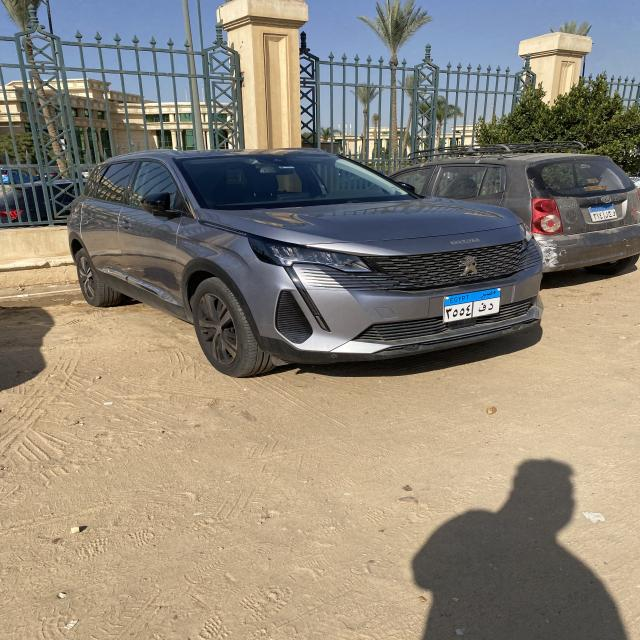License Plate: (443, 287, 501, 323), (588, 203, 618, 222)
